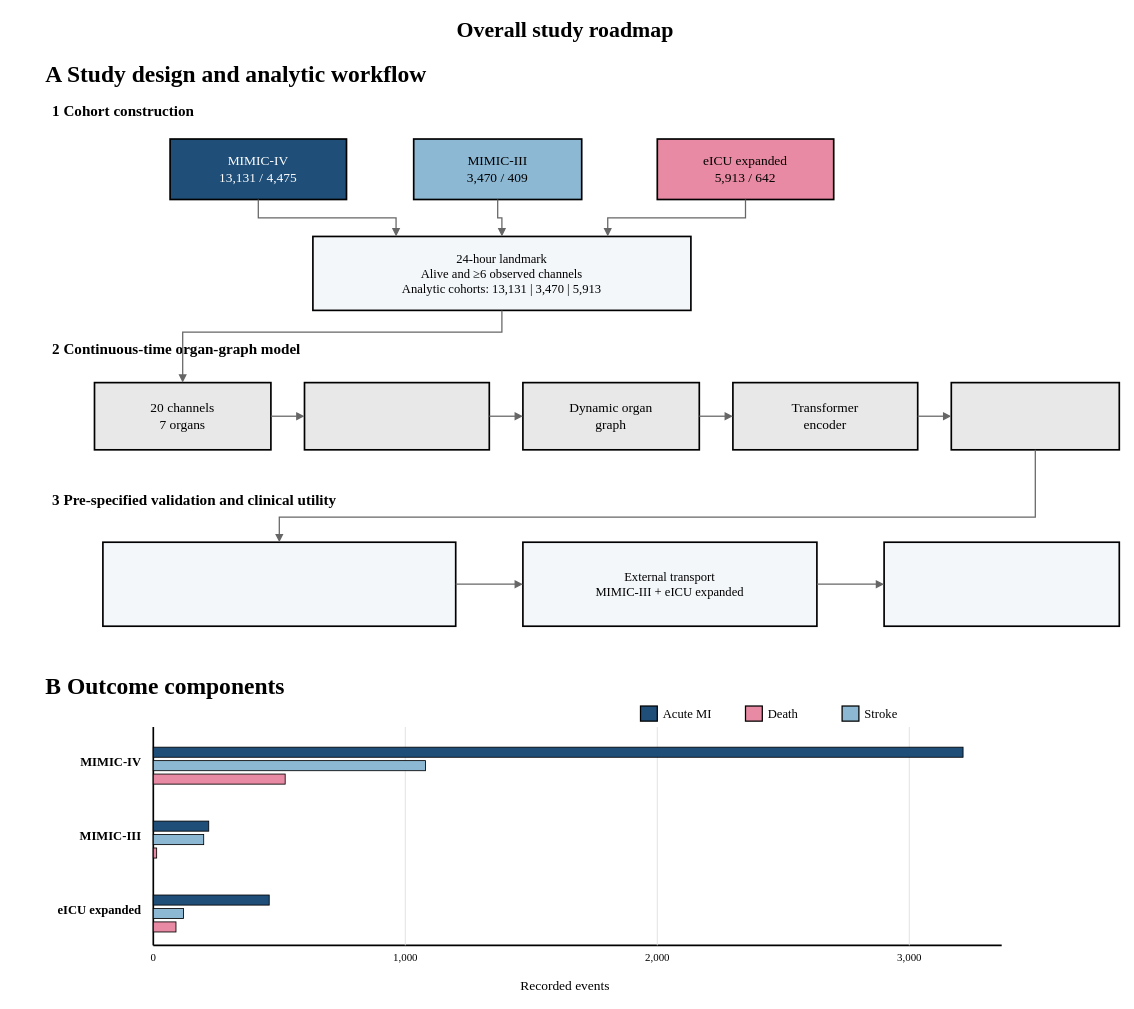
Some shapes in this 1134 by 1009 pixel diagram are drawn without their labels. The shapes that lost their labels are listed below. From the top down, each one's box as (x1, y1, x2, y2) in pixels, then its label:
(303, 381, 490, 450): Observation masks and time intervals
(950, 381, 1120, 450): MACCE risk
(102, 541, 456, 627): Temporal development Fit 2008-2016 | select 2017-2019 Locked test 2020-2022
(883, 541, 1120, 627): Calibration, DCA, endpoint sensitivity
